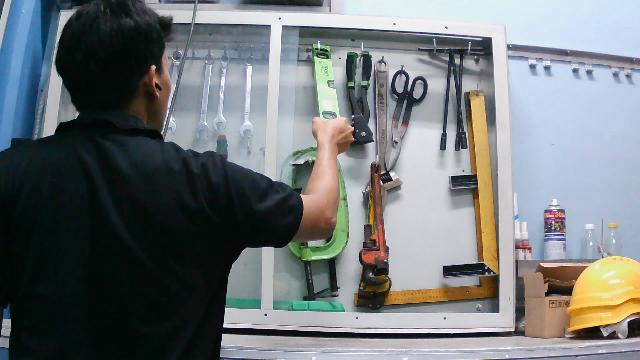water_pass: (307, 43, 343, 141)
